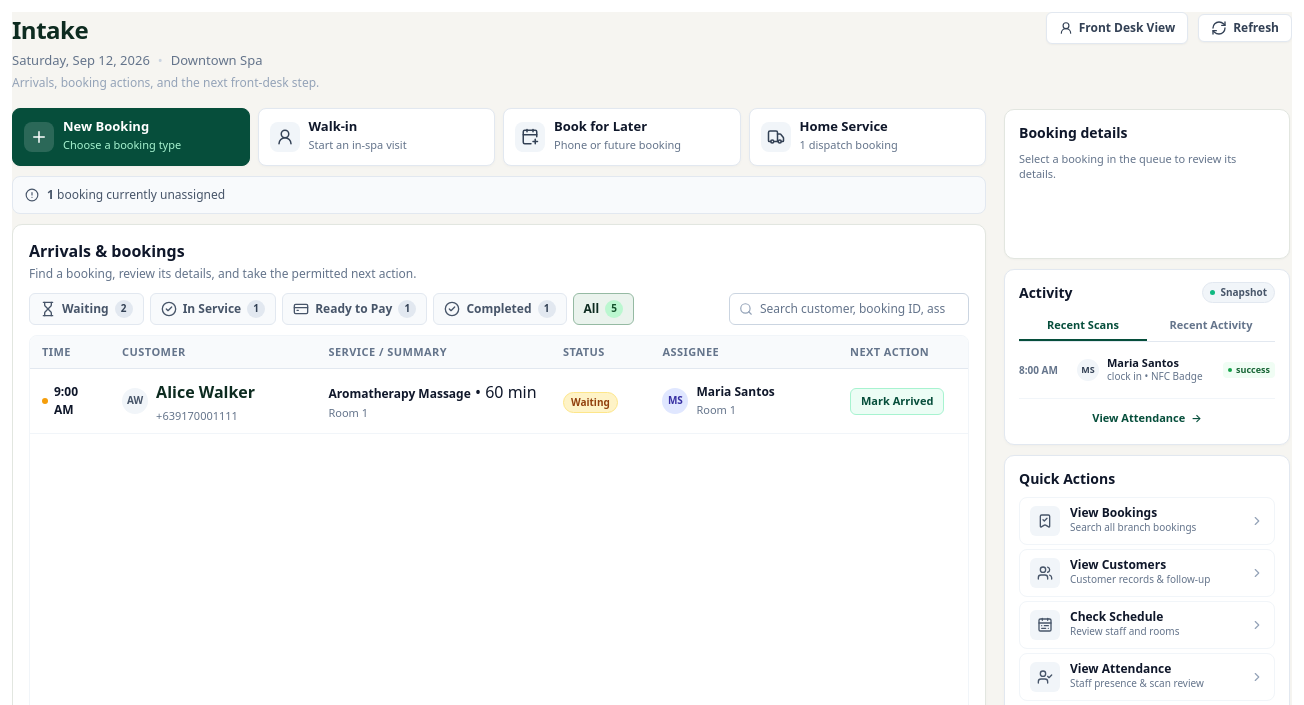
Test: TodayView Component Suite › displays mutation error truthfully when mutation fails without faking success
The image size is (1304, 705).
Click the button with test id "action-mark_arrived-booking-01" at {"x": 897, "y": 401}, box [850,388,944,414]
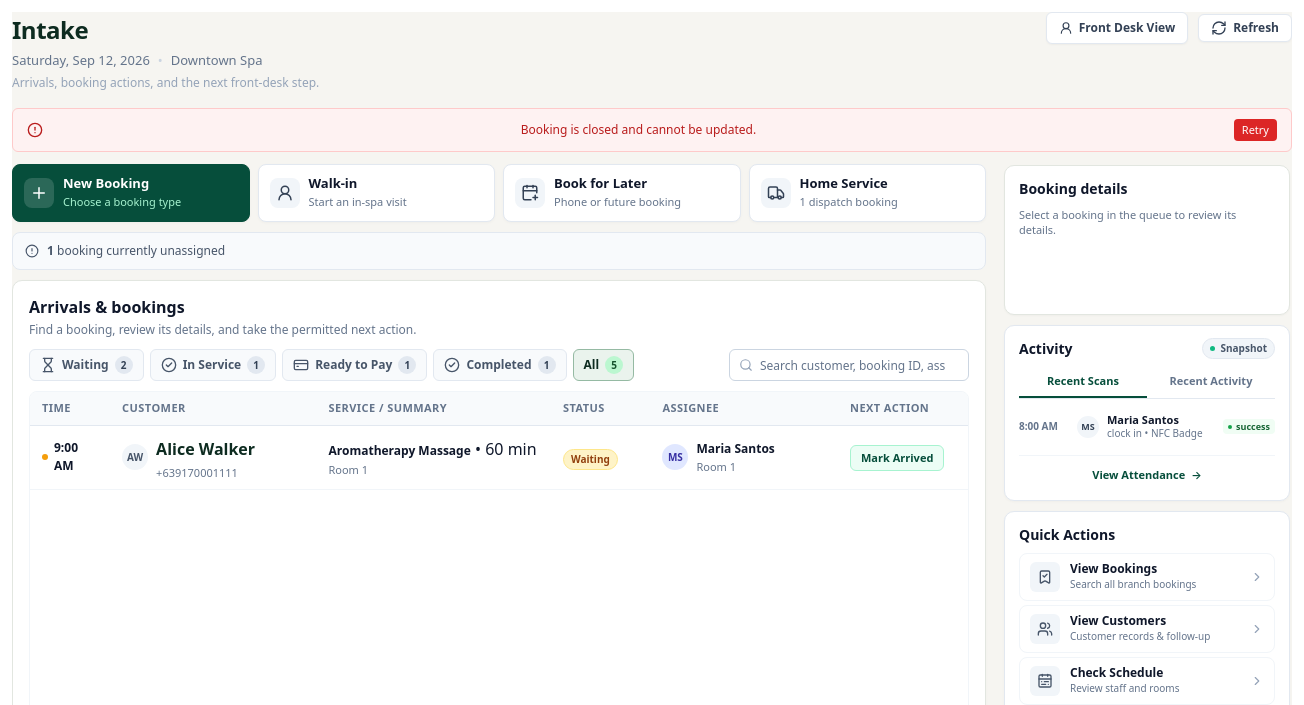
Expected: the message "Booking is closed and cannot be updated. Retry" is shown, [12,108,1292,152]
Expected: the text "Booking is closed and cannot be updated." is shown, [521,121,756,139]
